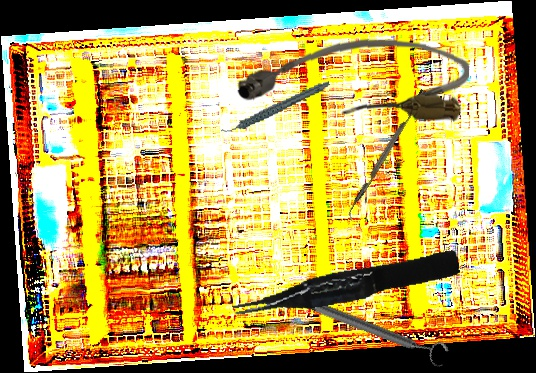Cannula: (236, 32, 471, 123)
Chopper: (342, 88, 433, 223)
Fixation Ring: (281, 280, 451, 371)
Handpiece: (215, 80, 335, 134)
Tissue Forceps: (229, 249, 462, 321)
